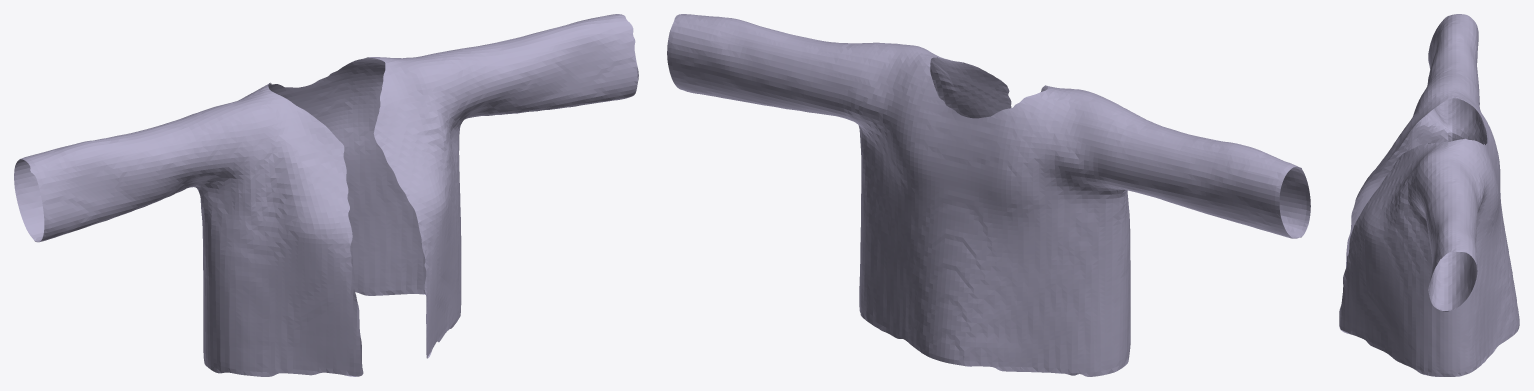
The model's file is udf.glb.
The picture shows the model from 3 angles, left to right: view 1: azimuth 30°, elevation 25°; view 2: azimuth 150°, elevation 25°; view 3: azimuth 270°, elevation 25°; orthographic projection. The views are drawn at different scales.
Visible parts, largest first — view 1: world; view 2: world; view 3: world.
Boxes of the visible parts, bbox=[...] form: world: bbox=[14, 14, 638, 376]; world: bbox=[667, 14, 1310, 376]; world: bbox=[1339, 14, 1519, 376].
Size of the model in its own units: 1.1 by 0.4567 by 0.3505.
